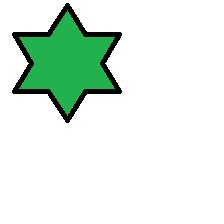star: (12, 3, 121, 125)
